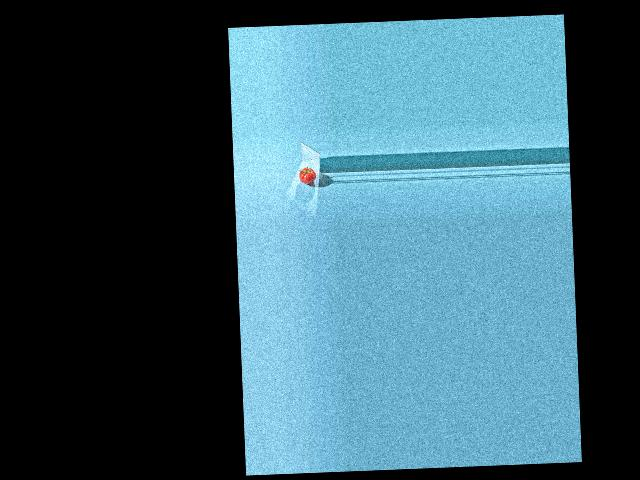tomato: (299, 167, 316, 184)
